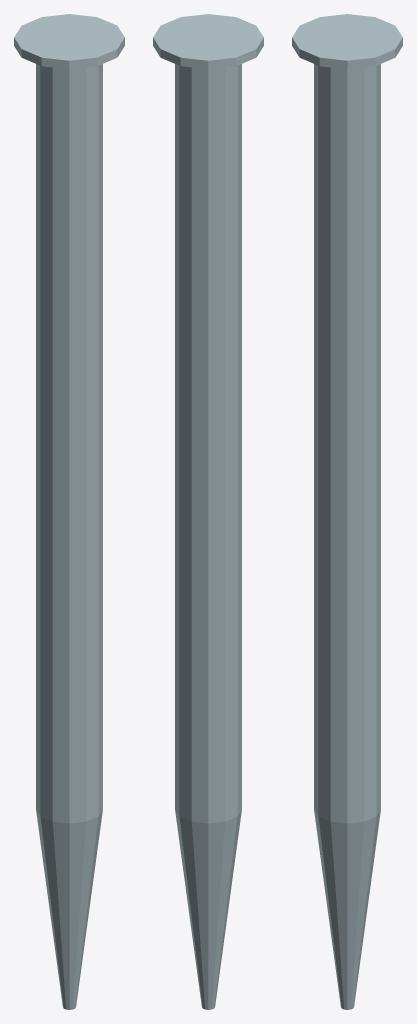
File: nail.fbx
3 views of the same model, side by side, from view 1: azimuth 30°, elevation 25°; view 2: azimuth 210°, elevation 25°; view 3: azimuth 330°, elevation 25° (orthographic).
Visible parts, largest first — view 1: Cylinder; view 2: Cylinder; view 3: Cylinder.
Boxes of the visible parts, bbox=[...] form: Cylinder: bbox=[14, 14, 124, 1009]; Cylinder: bbox=[153, 14, 263, 1009]; Cylinder: bbox=[292, 14, 402, 1009].
Bounding box in the file's own units: 11.98 × 116 × 11.98.
